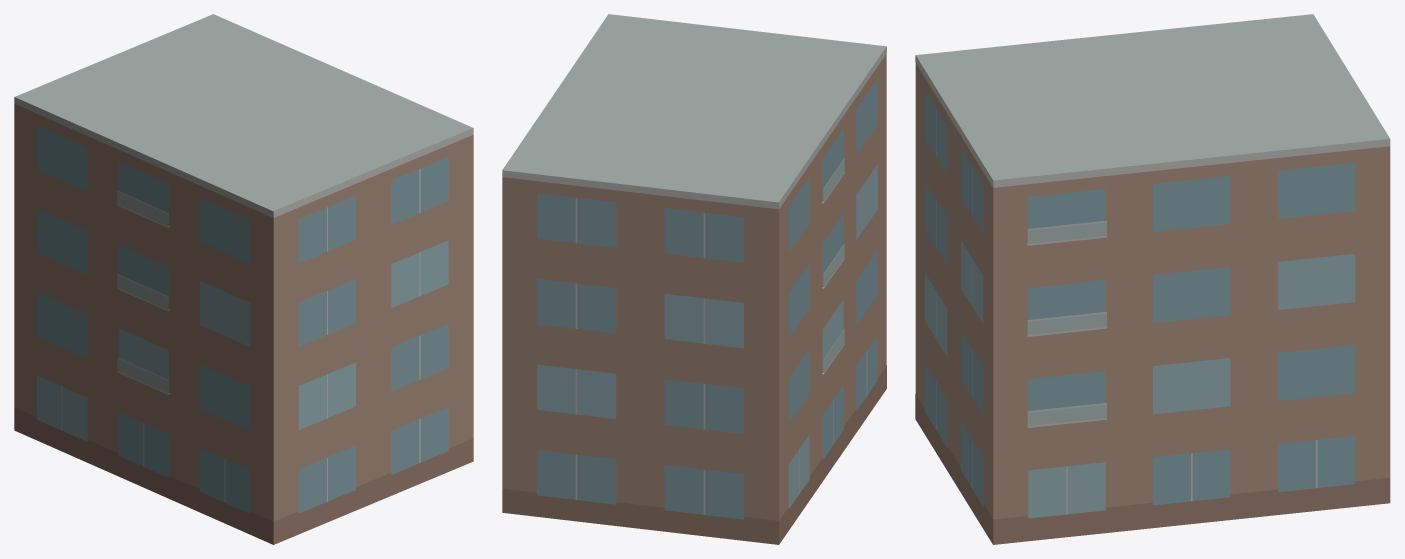
Rendered from survey-upis-32955900.glb.
The picture shows the model from 3 angles, left to right: view 1: azimuth 30°, elevation 25°; view 2: azimuth 150°, elevation 25°; view 3: azimuth 270°, elevation 25°; orthographic projection. The views are drawn at different scales.
Parts seen in each view (by area): view 1: survey-upis-32955900.tmp; view 2: survey-upis-32955900.tmp; view 3: survey-upis-32955900.tmp.
Part boxes in pixels (bbox=[...]): survey-upis-32955900.tmp: bbox=[14, 14, 473, 544]; survey-upis-32955900.tmp: bbox=[502, 14, 886, 544]; survey-upis-32955900.tmp: bbox=[915, 14, 1390, 544].
Size of the model in its own units: 11.98 by 12.2 by 14.42.
